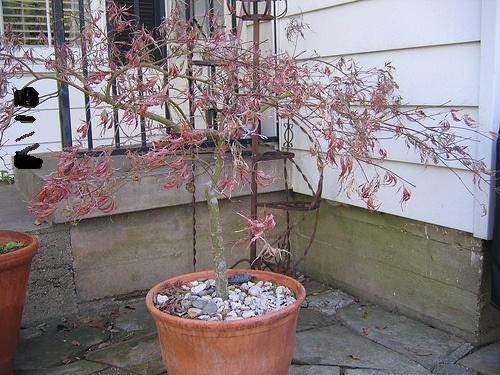tampered: (15, 88, 43, 169)
